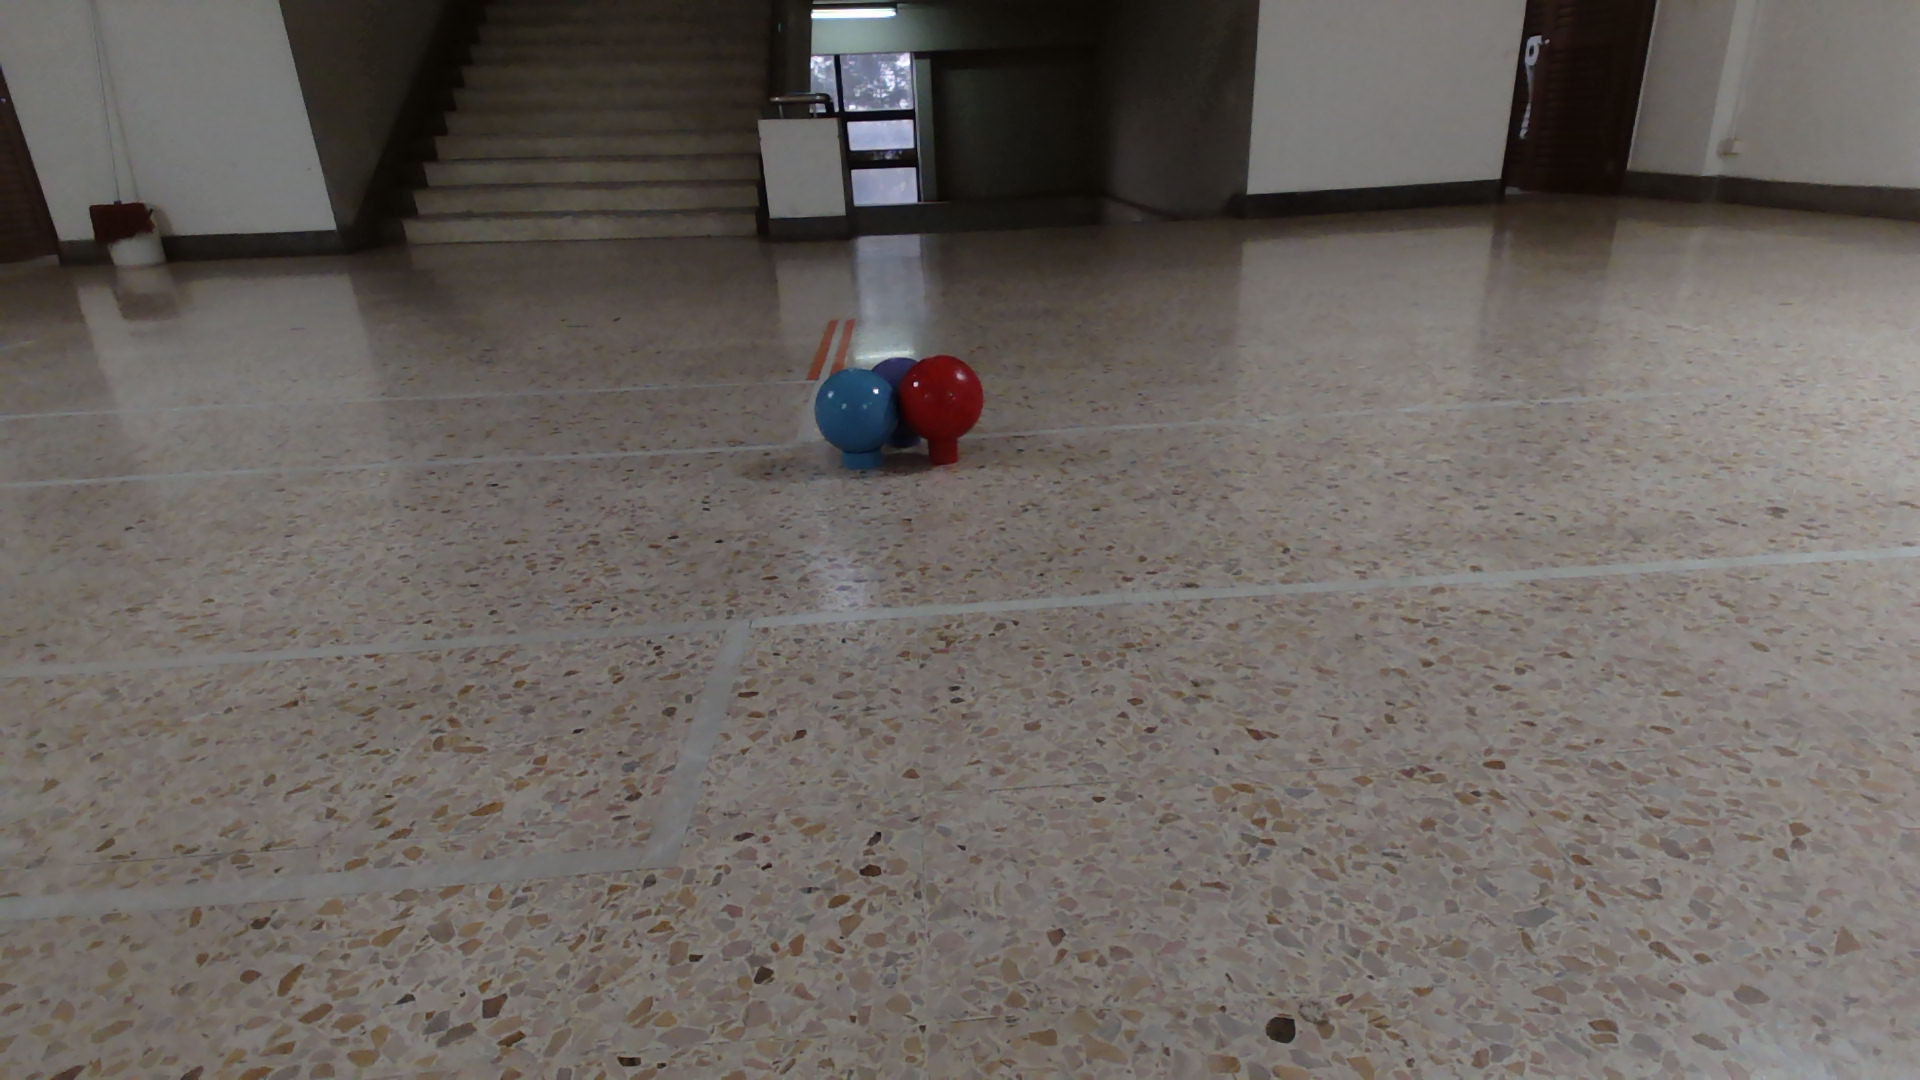Blue ball: (814, 368, 899, 454)
Purple ball: (869, 355, 920, 382)
Red ball: (898, 353, 985, 442)
